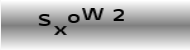2: (112, 8, 124, 21)
W: (80, 7, 104, 20)
o: (66, 13, 80, 23)
s: (37, 13, 51, 26)
x: (53, 25, 68, 37)
